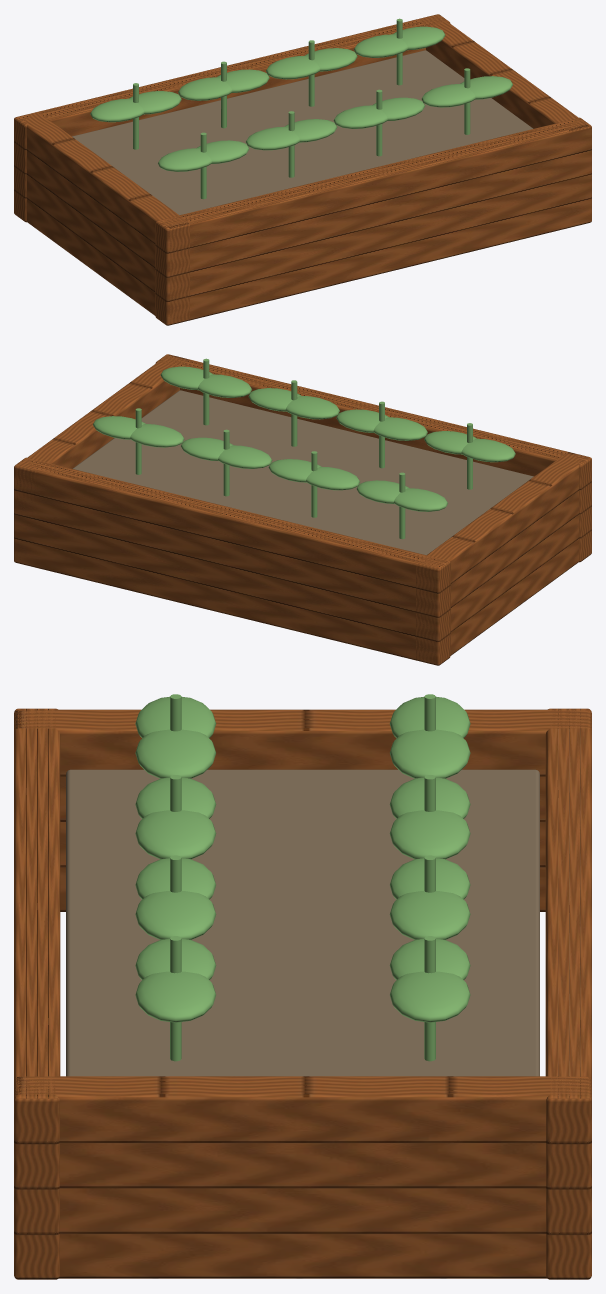
File: prison-complex-builder-garden-bed-5f157658__25694.glb
3 renders of one model, top to bottom at view 1: azimuth 30°, elevation 25°; view 2: azimuth 150°, elevation 25°; view 3: azimuth 270°, elevation 25°, orthographic. The views are drawn at different scales.
Visible parts, largest first — view 1: garden-bed; view 2: garden-bed; view 3: garden-bed.
Boxes of the visible parts, x1=… form: garden-bed: x1=14, y1=14, x2=591, y2=325; garden-bed: x1=14, y1=354, x2=591, y2=665; garden-bed: x1=14, y1=694, x2=591, y2=1279.
Bounding box in the file's own units: 1.6 × 0.51 × 0.9999.
3 materials, 1 textured.
